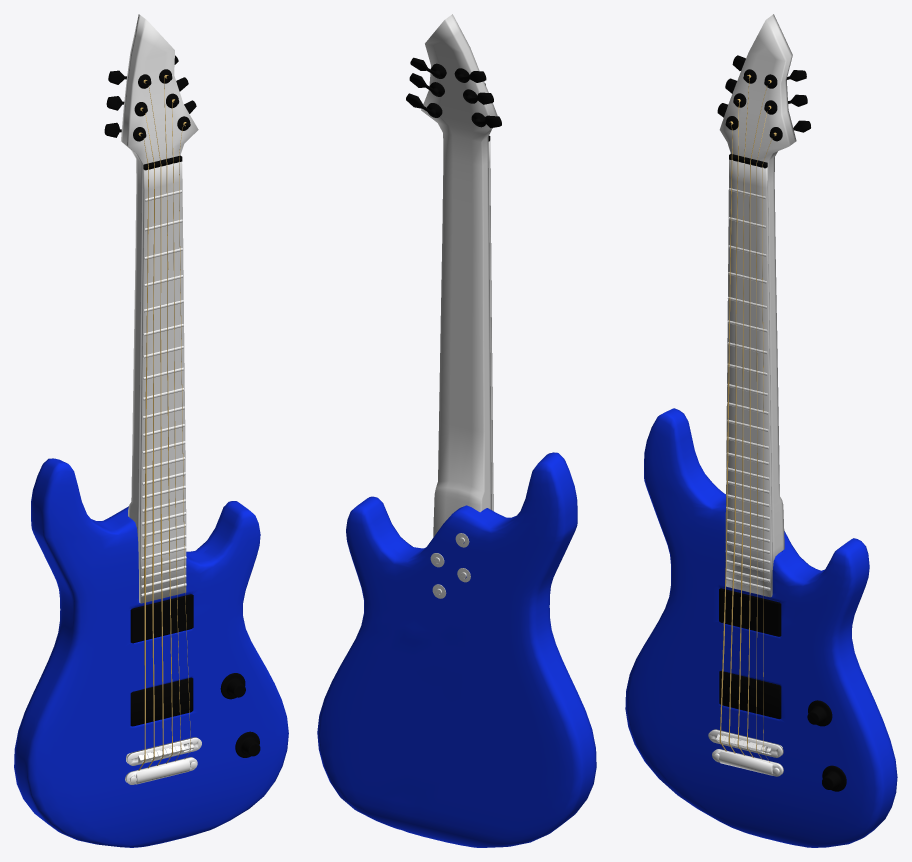
The model's file is first-gitar.glb.
3 renders of one model, left to right at view 1: azimuth 30°, elevation 25°; view 2: azimuth 150°, elevation 25°; view 3: azimuth 330°, elevation 25°, orthographic. The views are drawn at different scales.
Parts seen in each view (by area): view 1: body, Cube.002, Cube, Cube.034, Cube.033, Circle.018, Circle.017, Cylinder.033, Circle.016, Circle.021, Circle.020, Cylinder.030 (+3 smaller); view 2: body, Cube, Cube.002; view 3: body, Cube.002, Cube, Cube.033, Cube.034, Circle.016, Circle.018, Circle.017, Circle.021, Cylinder.033, Circle.020, Cylinder.030 (+3 smaller).
Boxes of the visible parts, x1=… form: body: x1=14, y1=458, x2=288, y2=847; Cube.002: x1=139, y1=161, x2=186, y2=603; Cube: x1=121, y1=14, x2=198, y2=600; Cube.034: x1=130, y1=677, x2=193, y2=726; Cube.033: x1=130, y1=594, x2=193, y2=643; Circle.018: x1=143, y1=79, x2=163, y2=765; Circle.017: x1=138, y1=132, x2=148, y2=770; Cylinder.033: x1=125, y1=757, x2=197, y2=784; Circle.016: x1=140, y1=107, x2=154, y2=768; Circle.021: x1=164, y1=75, x2=172, y2=763; Circle.020: x1=172, y1=99, x2=181, y2=761; Cylinder.030: x1=126, y1=737, x2=201, y2=765; body: x1=317, y1=452, x2=596, y2=847; Cube: x1=421, y1=14, x2=497, y2=537; Cube.002: x1=488, y1=141, x2=493, y2=510; body: x1=625, y1=408, x2=897, y2=847; Cube.002: x1=725, y1=159, x2=772, y2=597; Cube: x1=719, y1=14, x2=796, y2=594; Cube.033: x1=719, y1=588, x2=781, y2=636; Cube.034: x1=719, y1=671, x2=781, y2=719; Circle.016: x1=728, y1=99, x2=740, y2=753; Circle.018: x1=737, y1=74, x2=751, y2=755; Circle.017: x1=719, y1=121, x2=733, y2=751; Circle.021: x1=747, y1=80, x2=771, y2=757; Cylinder.033: x1=712, y1=749, x2=783, y2=776; Circle.020: x1=756, y1=105, x2=771, y2=759; Cylinder.030: x1=708, y1=729, x2=783, y2=757.
Bounding box in the file's own units: 1.79 × 5.37 × 0.3715.
